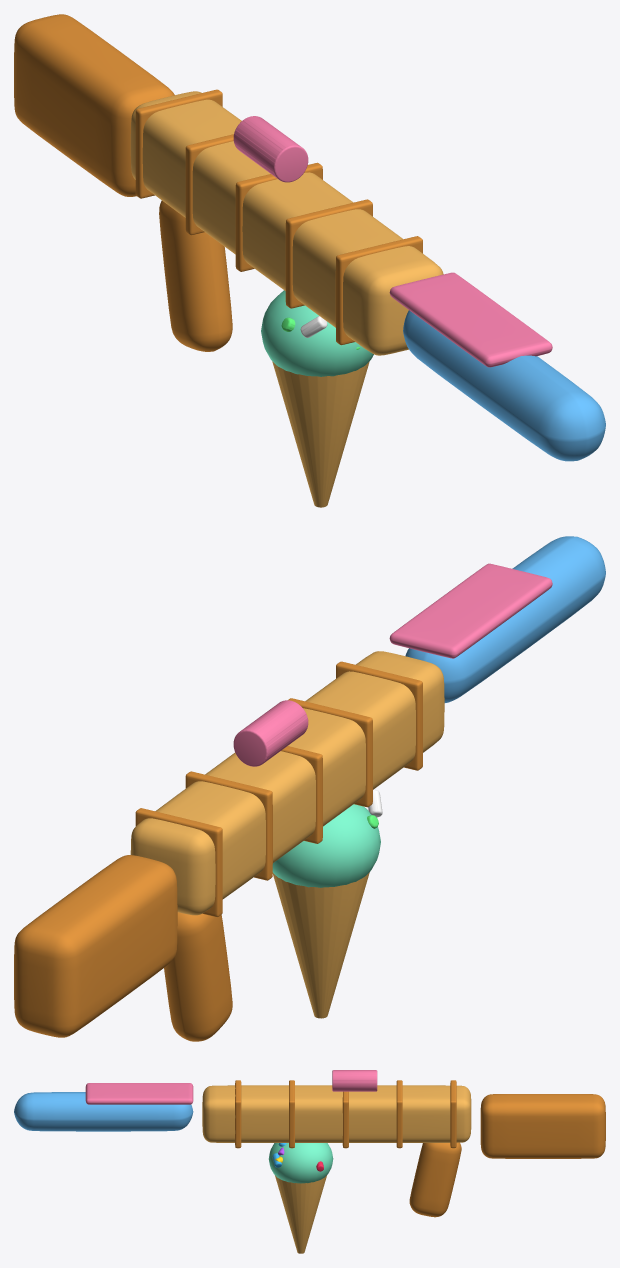
3 views of the same model, one above another, from view 1: azimuth 30°, elevation 25°; view 2: azimuth 150°, elevation 25°; view 3: azimuth 270°, elevation 25° (orthographic). The views are drawn at different scales.
Visible parts, largest first — view 1: Cube, Cube.008, Cube.006, Cube.009, Cube.007, Cone, Sphere, Cylinder.010, Cube.001, Cube.005, Cube.004, Cube.003 (+1 smaller); view 2: Cube, Cube.008, Cube.006, Cube.007, Cone, Cube.009, Sphere, Cylinder.010, Cube.001, Cube.002, Cube.005, Cube.004 (+1 smaller); view 3: Cube, Cube.008, Cube.006, Cube.009, Cube.007, Sphere, Cone, Cylinder.010, Cube.001, Cube.002, Cube.005, Cube.004 (+1 smaller).
Boxes of the visible parts, x1=… form: Cube: x1=130, y1=91, x2=443, y2=355; Cube.008: x1=14, y1=14, x2=174, y2=196; Cube.006: x1=403, y1=310, x2=605, y2=461; Cube.009: x1=159, y1=200, x2=232, y2=351; Cube.007: x1=389, y1=272, x2=552, y2=367; Cone: x1=272, y1=361, x2=369, y2=507; Sphere: x1=261, y1=290, x2=373, y2=376; Cylinder.010: x1=233, y1=116, x2=308, y2=182; Cube.001: x1=135, y1=89, x2=222, y2=198; Cube.005: x1=335, y1=236, x2=422, y2=345; Cube.004: x1=285, y1=199, x2=372, y2=308; Cube.003: x1=235, y1=162, x2=322, y2=271; Cube: x1=130, y1=651, x2=444, y2=915; Cube.008: x1=14, y1=855, x2=177, y2=1037; Cube.006: x1=405, y1=536, x2=605, y2=702; Cube.007: x1=389, y1=563, x2=552, y2=658; Cone: x1=272, y1=872, x2=369, y2=1018; Cube.009: x1=164, y1=912, x2=232, y2=1041; Sphere: x1=272, y1=804, x2=380, y2=887; Cylinder.010: x1=233, y1=700, x2=308, y2=766; Cube.001: x1=135, y1=808, x2=222, y2=917; Cube.002: x1=185, y1=771, x2=272, y2=880; Cube.005: x1=336, y1=661, x2=422, y2=770; Cube.004: x1=288, y1=698, x2=372, y2=807; Cube: x1=202, y1=1085, x2=471, y2=1142; Cube.008: x1=480, y1=1094, x2=605, y2=1158; Cube.006: x1=14, y1=1092, x2=193, y2=1131; Cube.009: x1=409, y1=1142, x2=461, y2=1217; Cube.007: x1=85, y1=1083, x2=193, y2=1104; Sphere: x1=268, y1=1143, x2=333, y2=1183; Cone: x1=275, y1=1175, x2=326, y2=1253; Cylinder.010: x1=332, y1=1070, x2=377, y2=1091; Cube.001: x1=450, y1=1080, x2=456, y2=1148; Cube.002: x1=396, y1=1080, x2=402, y2=1148; Cube.005: x1=235, y1=1080, x2=241, y2=1148; Cube.004: x1=289, y1=1080, x2=294, y2=1148.
Size of the model in its own units: 0.072 by 0.2229 by 0.6598.
